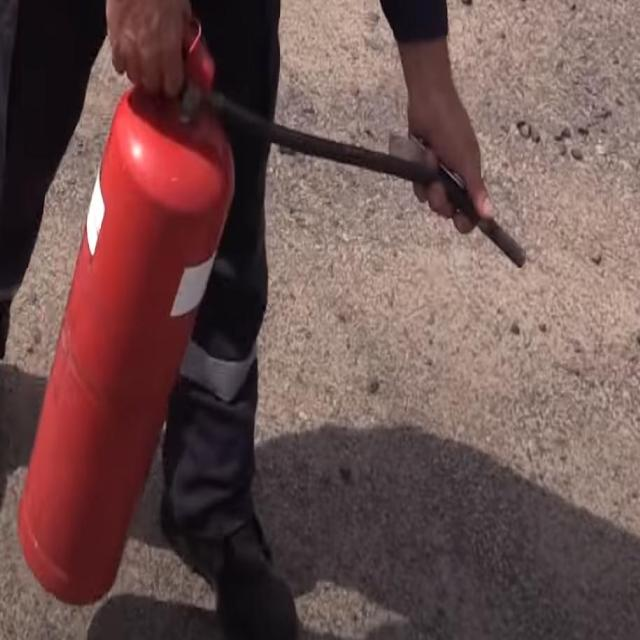fire_extinguisher: (10, 5, 533, 613)
